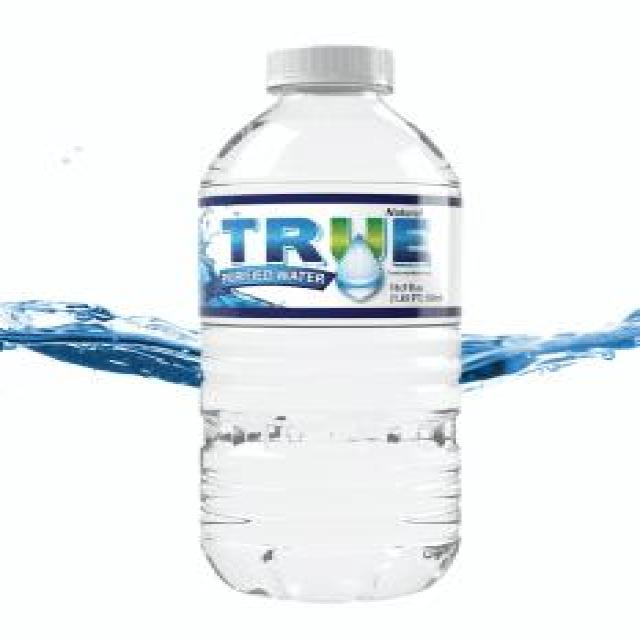bottle: (184, 40, 473, 607)
